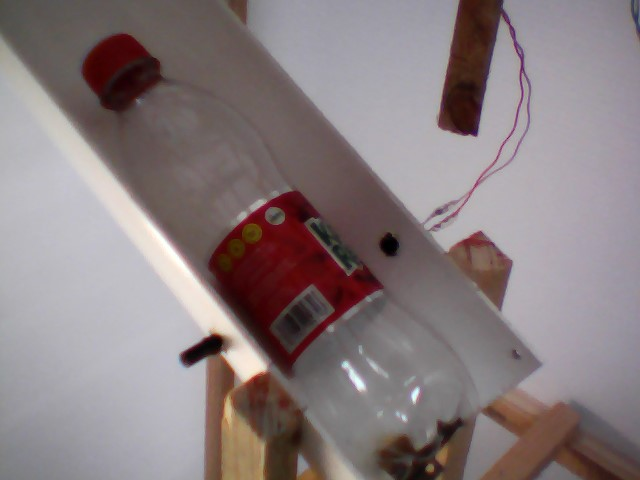plastico: (70, 29, 491, 480)
